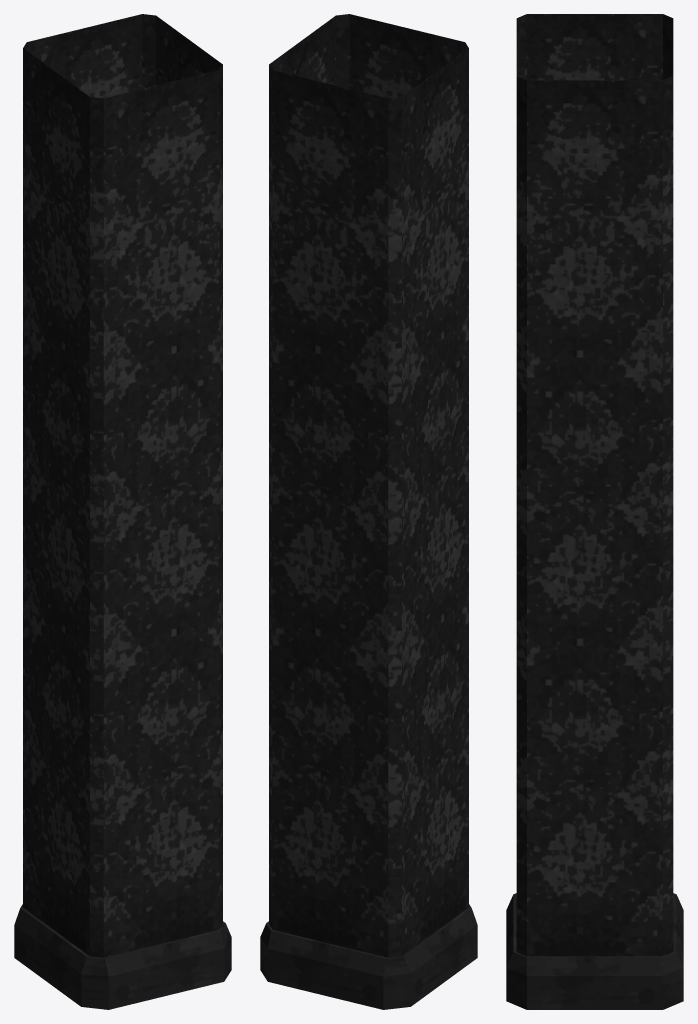
Rendered from pillar_2.fbx.
3 renders of one model, left to right at view 1: azimuth 30°, elevation 25°; view 2: azimuth 150°, elevation 25°; view 3: azimuth 270°, elevation 25°, orthographic.
Visible parts, largest first — view 1: pillar_2; view 2: pillar_2; view 3: pillar_2.
Boxes of the visible parts, <box> form: pillar_2: <box>14,14,231,1009</box>; pillar_2: <box>260,14,477,1009</box>; pillar_2: <box>506,14,683,1009</box>.
Bounding box in the file's own units: 0.52 × 3 × 0.52.
